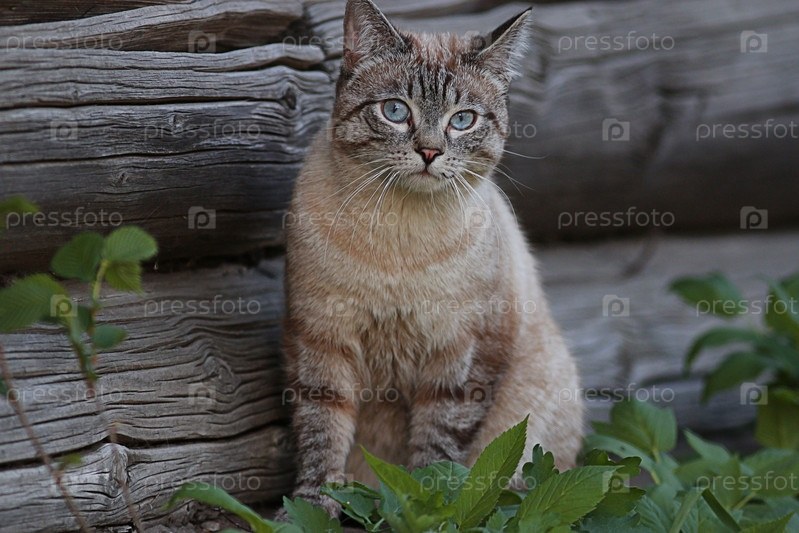cat: (279, 1, 589, 516)
